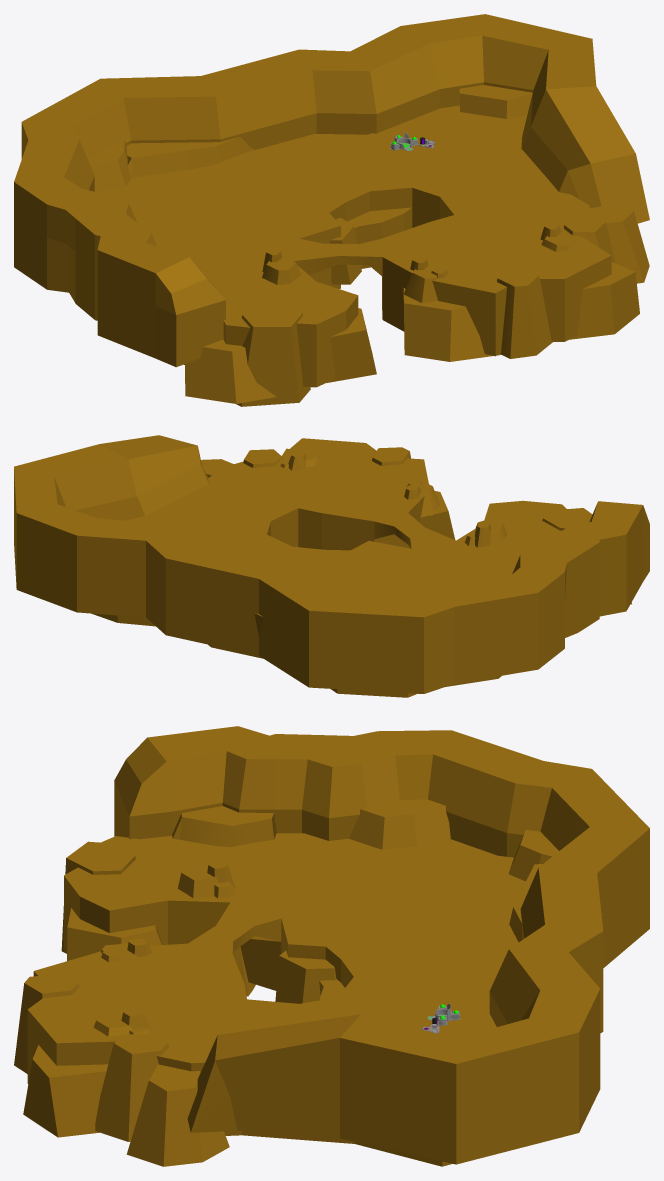
The model's file is MaquetaBase.FBX.
3 views of the same model, one above another, from view 1: azimuth 30°, elevation 25°; view 2: azimuth 150°, elevation 25°; view 3: azimuth 270°, elevation 25° (orthographic). The views are drawn at different scales.
Visible parts, largest first — view 1: terreno; view 2: terreno; view 3: terreno.
Part boxes in pixels (bbox=[...]): terreno: bbox=[14, 14, 649, 406]; terreno: bbox=[14, 435, 649, 697]; terreno: bbox=[14, 726, 649, 1166].
Bounding box in the file's own units: 1652 × 347 × 1314.
